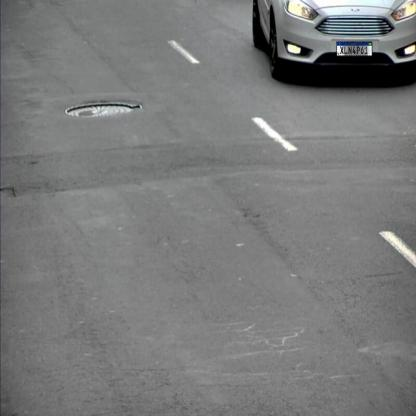PlacaM: (336, 42, 372, 56)
